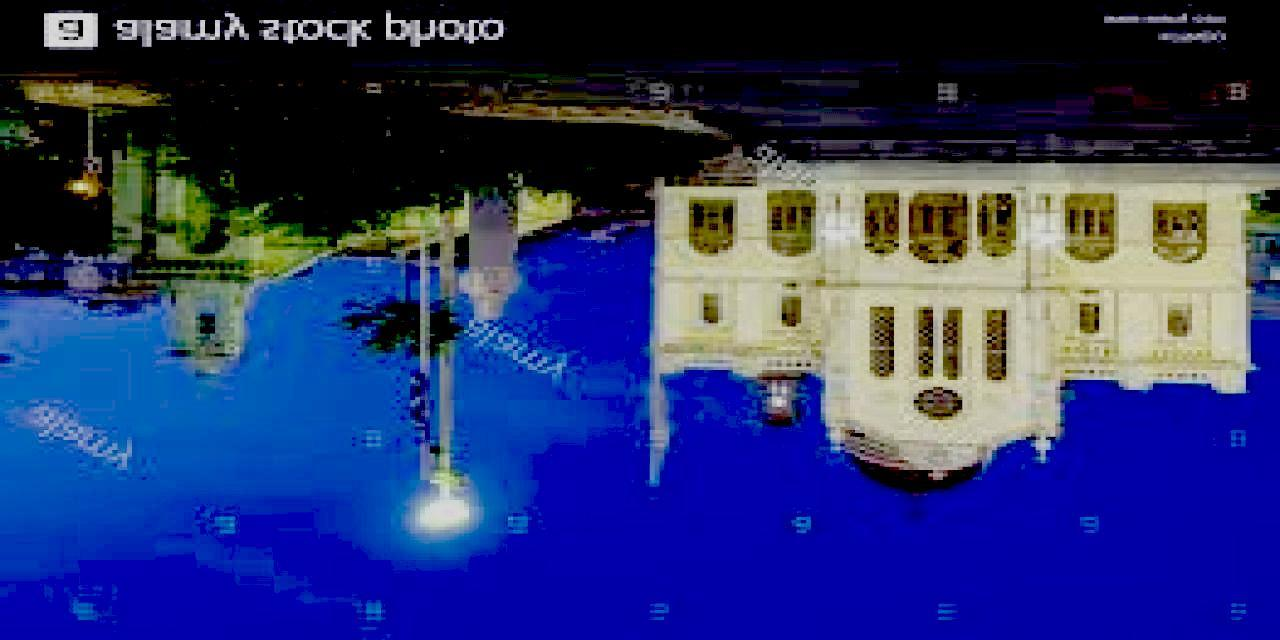Agios Minas: (646, 175, 1255, 518)
